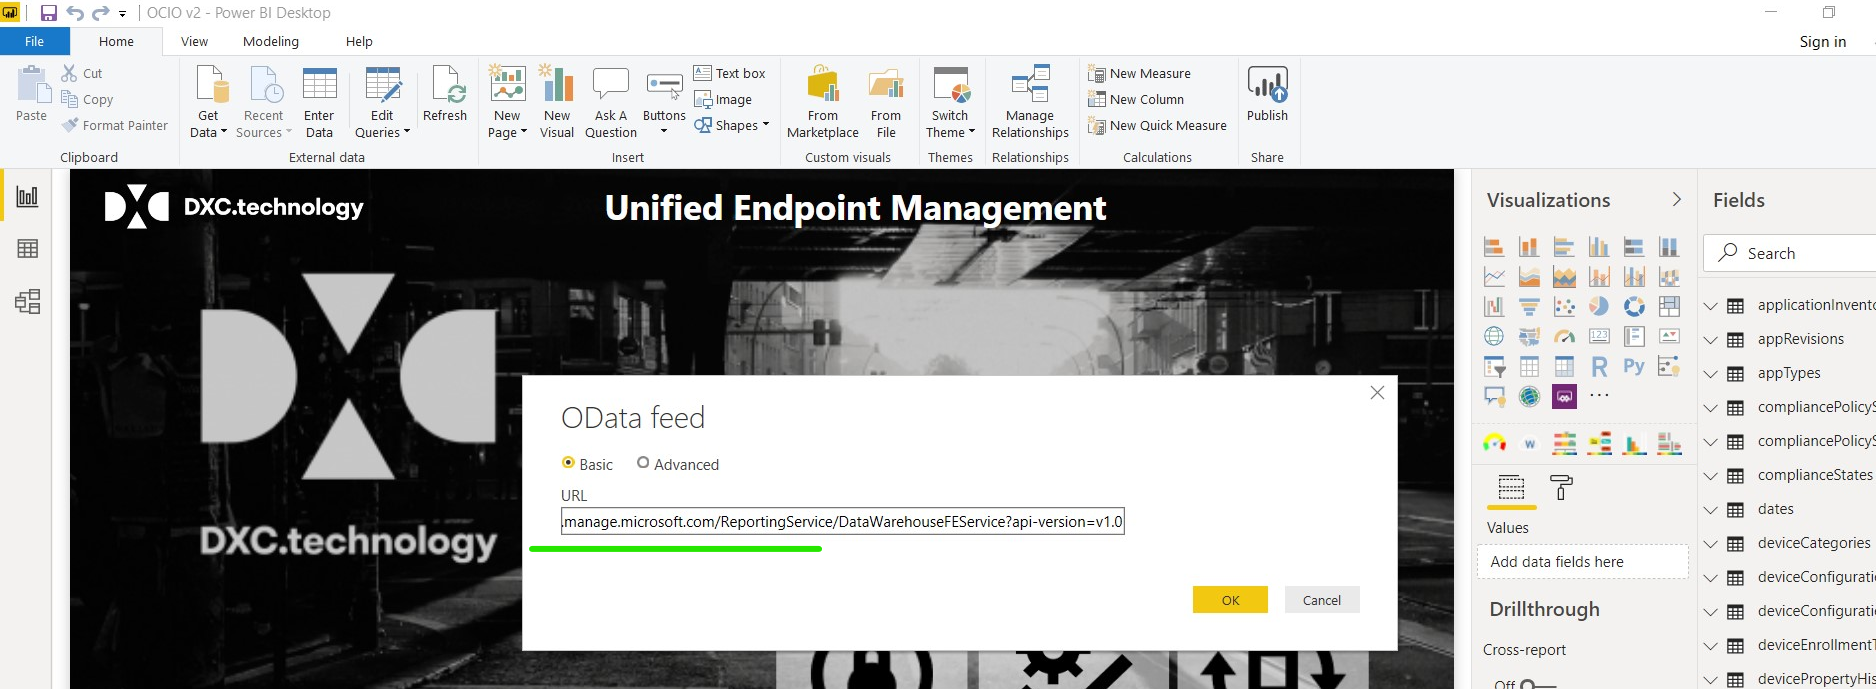DXC: (199, 275, 494, 563)
